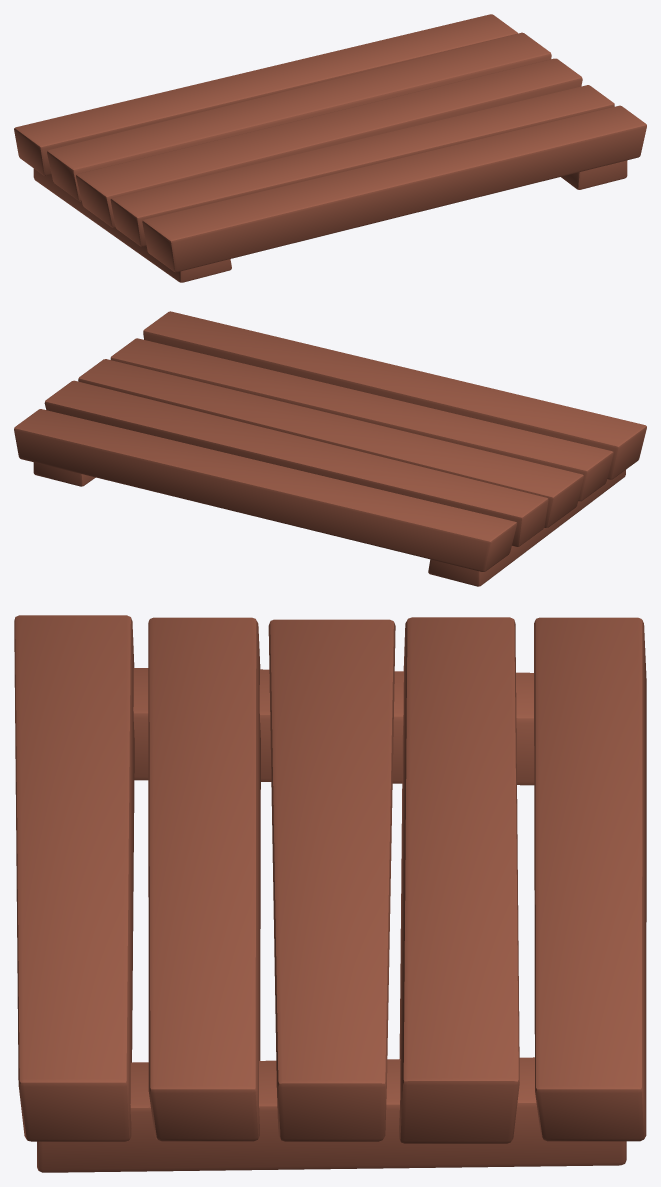
File: planche.glb
The picture shows the model from 3 angles, top to bottom: view 1: azimuth 30°, elevation 25°; view 2: azimuth 150°, elevation 25°; view 3: azimuth 270°, elevation 25°; orthographic projection. The views are drawn at different scales.
Parts seen in each view (by area): view 1: tableLarge; view 2: tableLarge; view 3: tableLarge.
Part boxes in pixels (x1=…): tableLarge: x1=14, y1=14, x2=646, y2=282; tableLarge: x1=14, y1=311, x2=646, y2=586; tableLarge: x1=14, y1=615, x2=646, y2=1172.
Size of the model in its own units: 3 by 0.3324 by 1.71.
